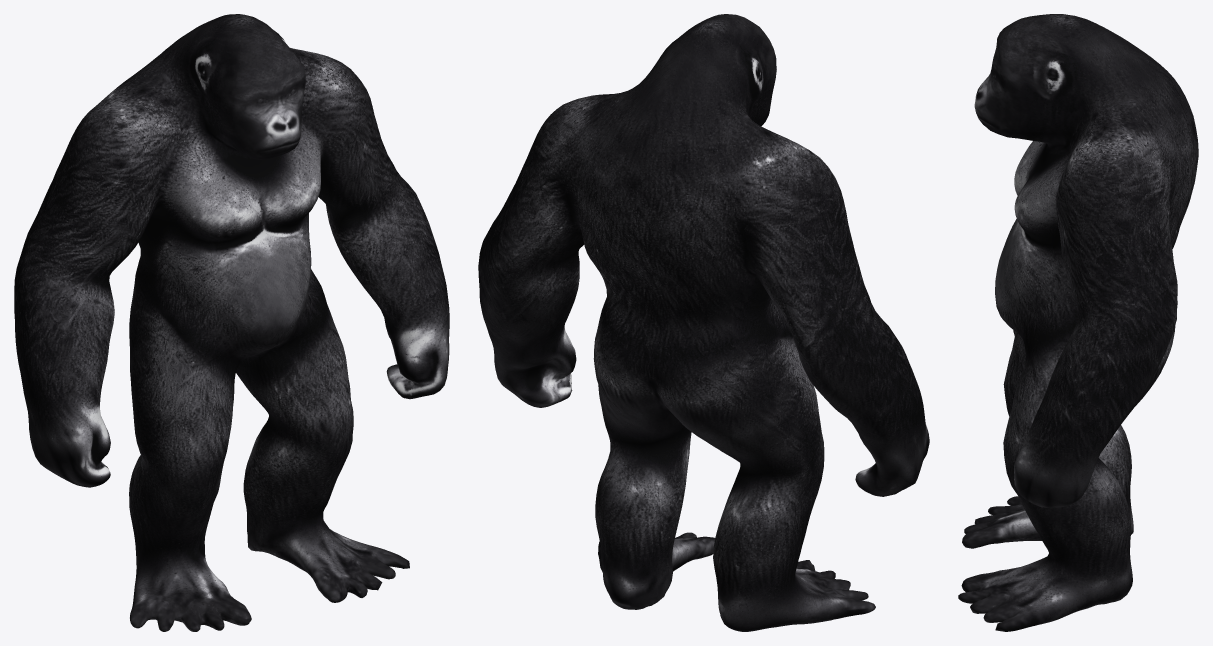
Rendered from Gorilla_Quad.fbx.
3 renders of one model, left to right at view 1: azimuth 30°, elevation 25°; view 2: azimuth 150°, elevation 25°; view 3: azimuth 270°, elevation 25°, orthographic. The views are drawn at different scales.
Parts seen in each view (by area): view 1: Gorilla_Quad; view 2: Gorilla_Quad; view 3: Gorilla_Quad.
Part boxes in pixels (<box>): Gorilla_Quad: <box>14,14,449,631</box>; Gorilla_Quad: <box>478,14,929,631</box>; Gorilla_Quad: <box>958,14,1198,631</box>.
Bounding box in the file's own units: 130 × 170 × 66.73.
